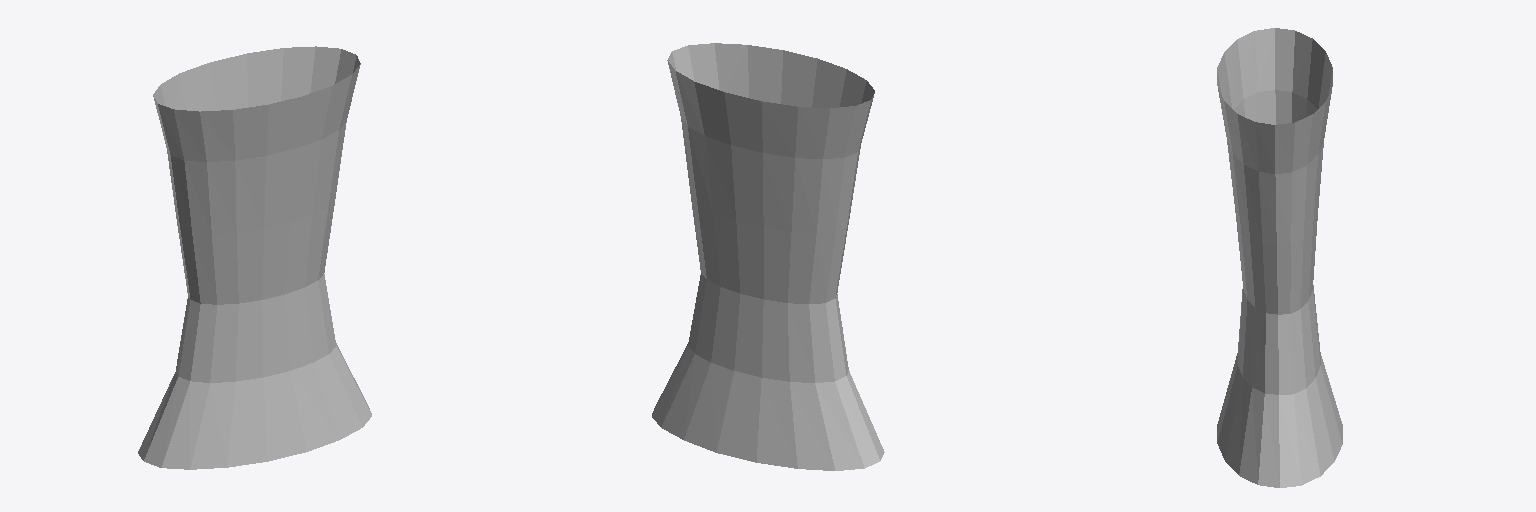
The model's file is AirGlassContact.obj.
3 views of the same model, side by side, from view 1: azimuth 30°, elevation 25°; view 2: azimuth 150°, elevation 25°; view 3: azimuth 270°, elevation 25° (orthographic).
Visible parts, largest first — view 1: Contatto_aria_vetro_Cube.003; view 2: Contatto_aria_vetro_Cube.003; view 3: Contatto_aria_vetro_Cube.003.
Boxes of the visible parts, <box> form: Contatto_aria_vetro_Cube.003: <box>138,46,371,469</box>; Contatto_aria_vetro_Cube.003: <box>652,43,884,470</box>; Contatto_aria_vetro_Cube.003: <box>1217,28,1342,487</box>.
Size of the model in its own units: 0.5693 by 0.8653 by 0.275.